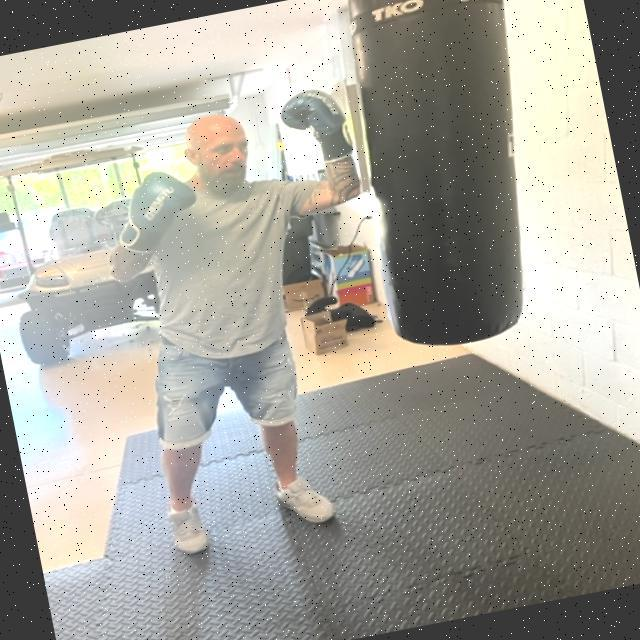uppercut: (76, 65, 399, 276)
